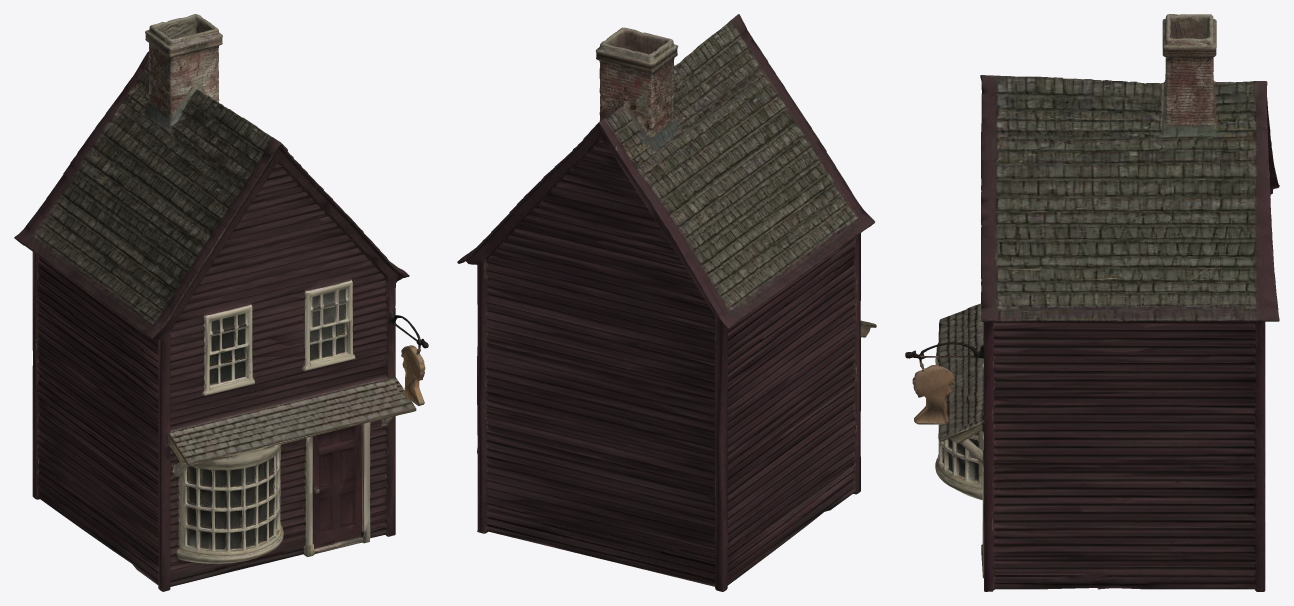
The model's file is bldg-row-shop.glb.
3 views of the same model, side by side, from view 1: azimuth 30°, elevation 25°; view 2: azimuth 150°, elevation 25°; view 3: azimuth 270°, elevation 25° (orthographic). The views are drawn at different scales.
Parts seen in each view (by area): view 1: Mesh_0; view 2: Mesh_0; view 3: Mesh_0.
Part boxes in pixels (x1=…): Mesh_0: x1=14, y1=14, x2=428, y2=591; Mesh_0: x1=457, y1=14, x2=876, y2=591; Mesh_0: x1=905, y1=14, x2=1279, y2=591.
Size of the model in its own units: 1.1 by 1.9 by 1.28.
Materials: 1 (1 with a texture image).
